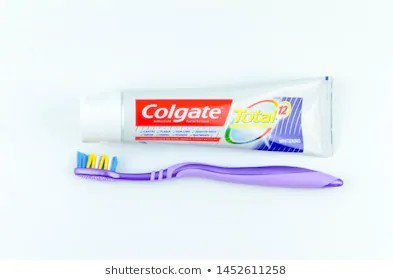colgate-total-150gm: (76, 71, 340, 144)
toothbrush: (69, 146, 348, 203)
